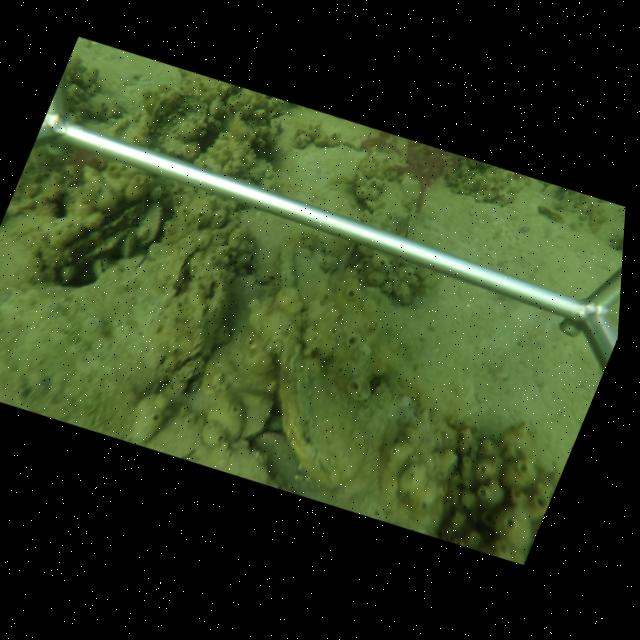Oyster-Closed: (271, 233, 386, 490), (210, 388, 275, 445), (158, 238, 204, 309), (136, 199, 164, 248), (118, 229, 137, 262)
